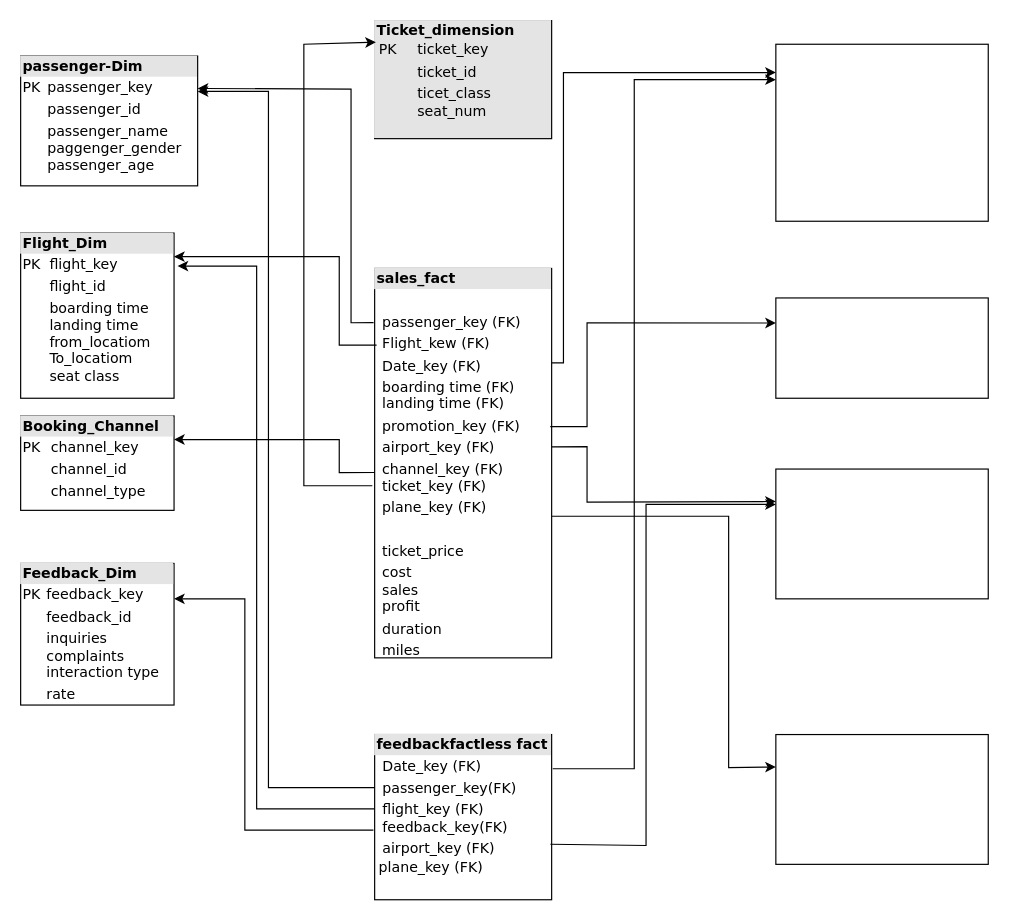
The diagram is 1009 pixels wide and 920 high, and some of its shapes have lost their labels. The shapes that lost their labels are listed below. From the top down, each one's box as (x1, y1, x2, y2) in pixels, then its label:
(775, 43, 988, 221): Date PK Date_key Date Day Week Month Quarter Year
(775, 297, 988, 398): Promotion PK promotion_key promotion_id promotion_name promotion_type
(775, 468, 988, 599): Airport PK airport_key airport_id airport_name location gate
(775, 733, 988, 864): Plane PK plane_key plane_id model size
